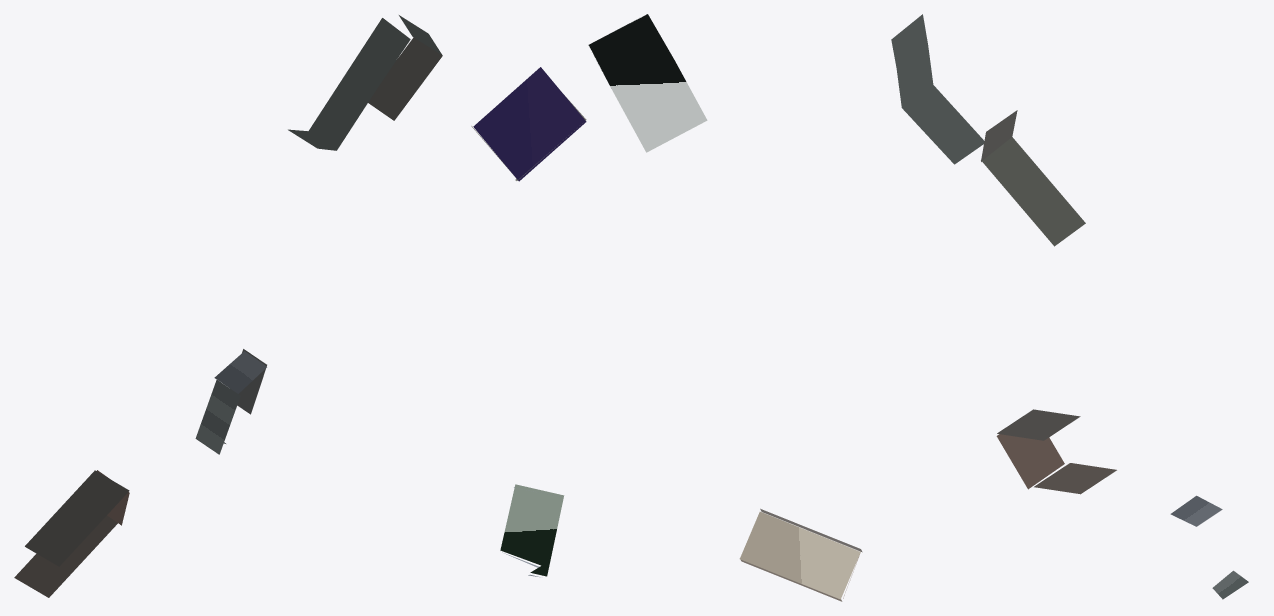
Rendered from tile_LOD3_r4_c2.glb.
3 renders of one model, left to right at view 1: azimuth 30°, elevation 25°; view 2: azimuth 150°, elevation 25°; view 3: azimuth 270°, elevation 25°, orthographic. The views are drawn at different scales.
Size of the model in its own units: 52.5 by 65 by 35.
Materials: 13 (12 with a texture image).
